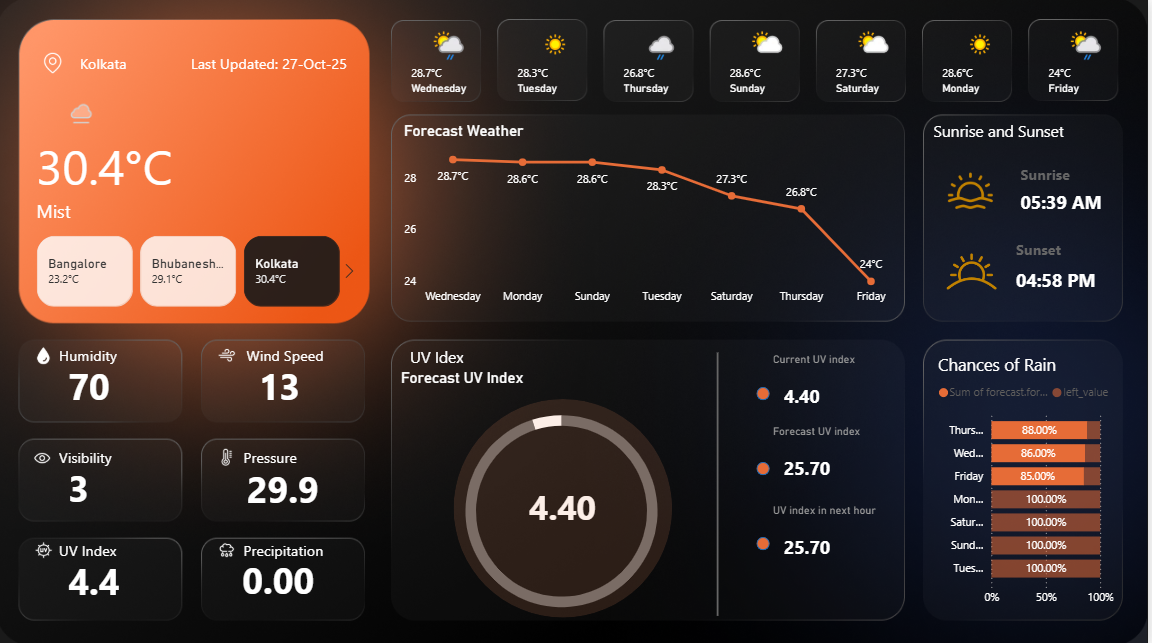

Layout of this report page (visuals, bound fields, positions):
{"tool":"powerbi","page":{"name":"Main Dashboard ","canvas":[1280,720],"ordinal":0},"visuals":[{"type":"advancedSlicerVisual","fields":{"Values":["Location.location.name"]},"box":[19.5,257,388.7,89.5],"z":0},{"type":"shape","box":[44.8,148.3,167.2,63.8],"z":1000},{"type":"shape","box":[44.8,212.1,167.2,44.8],"z":2000},{"type":"shape","box":[93.1,53.4,167.2,32.8],"z":3000},{"type":"shape","box":[216.3,56.9,193.6,26],"z":4000},{"type":"image","box":[44.8,53.4,36.2,32.8],"z":5000},{"type":"cardVisual","fields":{"Data":["Min(current.current.condition.icon)"]},"box":[24.1,86.2,105.2,74.1],"z":6000},{"type":"image","box":[30.9,492.8,39,30.9],"z":7000},{"type":"shape","box":[69.9,492.8,115.5,29.3],"z":8000},{"type":"image","box":[32.5,380.6,39,30],"z":9000},{"type":"shape","box":[69.9,380.6,115.5,29.3],"z":10000},{"type":"shape","box":[278.1,380.6,115.5,29.3],"z":11000},{"type":"shape","box":[274.9,492.8,115.5,29.3],"z":12000},{"type":"shape","box":[69.9,596.9,115.5,29.3],"z":13000},{"type":"shape","box":[274.9,596.9,115.5,29.3],"z":14000},{"type":"image","box":[235.8,380.6,39,29.3],"z":15000},{"type":"image","box":[235.8,492.8,39,29.3],"z":16000},{"type":"image","box":[32.5,596.9,39,29.3],"z":17000},{"type":"image","box":[235.8,596.9,39,29.3],"z":18000},{"type":"cardVisual","fields":{"Data":["Sum(current.current.humidity)"]},"box":[63.4,380.6,102.5,86.2],"z":19000},{"type":"cardVisual","fields":{"Data":["Sum(current.current.wind_kph)"]},"box":[274.9,380.6,102.5,86.2],"z":20000},{"type":"cardVisual","fields":{"Data":["Sum(current.current.vis_km)"]},"box":[63.4,492.8,102.5,86.2],"z":21000},{"type":"cardVisual","fields":{"Data":["Sum(current.current.pressure_in)"]},"box":[260.9,495.1,143.8,85.3],"z":22000},{"type":"cardVisual","fields":{"Data":["Sum(current.current.uv)"]},"box":[63.4,596.9,102.5,86.2],"z":23000},{"type":"cardVisual","fields":{"Data":["Sum(current.current.precip_in)"]},"box":[255.9,597.1,135.5,85.3],"z":24000},{"type":"advancedSlicerVisual","fields":{"Values":["forecast_day.day_name"]},"box":[444,22.8,829.5,100.8],"z":25000},{"type":"lineChart","title":"Forecast Weather","fields":{"Y":["Sum(forecast_day.forecast.forecastday.day.avgtemp_c)"],"Category":["forecast_day.day_name"]},"box":[448.9,135,559.5,211.5],"z":26000},{"type":"shape","box":[1041,128.5,167.5,32.5],"z":27000},{"type":"shape","box":[1139.1,208.7,107.4,30.9],"z":28000},{"type":"shape","box":[1133.7,293.3,100.8,34.2],"z":29000},{"type":"shape","box":[1133.7,262.4,139.9,30.9],"z":30000},{"type":"shape","box":[1139.1,177.8,139.9,30.9],"z":31000},{"type":"image","box":[1052.4,182.2,61.8,60.2],"z":32000},{"type":"image","box":[1041,271.6,84.6,60.2],"z":33000},{"type":"hundredPercentStackedBarChart","title":"Chances of Rain","fields":{"Y":["Sum(forecast_day.forecast.forecastday.day.daily_chance_of_rain)","current.left_value"],"Category":["forecast_day.day_name"]},"box":[1041,392,204.9,289.5],"z":34000},{"type":"shape","box":[460.3,380.6,167.5,32.5],"z":35000},{"type":"cardVisual","title":"Current UV index","fields":{"Data":["Sum(current.current.uv)"]},"box":[858.8,392,102.5,74.8],"z":36000},{"type":"cardVisual","title":"Forecast UV index","fields":{"Data":["Sum(forecast_day.forecast.forecastday.day.uv)"]},"box":[858.8,471.7,138.3,74.8],"z":37000},{"type":"cardVisual","title":" UV index in next hour","fields":{"Data":["Sum(forecast_day.forecast.forecastday.day.uv)"]},"box":[858.8,559.5,149.6,74.8],"z":38000},{"type":"shape","box":[844.2,429.4,14.6,14.6],"z":39000},{"type":"shape","box":[844.2,514,14.6,14.6],"z":40000},{"type":"shape","box":[845.8,596.9,14.6,14.6],"z":41000},{"type":"donutChart","title":"Forecast UV Index","fields":{"Y":["_Measures.left_uv_index","Sum(forecast_day.forecast.forecastday.day.uv)"]},"box":[445.7,409.9,366,296],"z":42000},{"type":"cardVisual","title":"Current UV index","fields":{"Data":["Sum(current.current.uv)"]},"box":[574.2,514,130.1,89.5],"z":43000},{"type":"shape","box":[509.1,444,243,243],"z":44000},{"type":"shape","box":[704.3,392,193.6,292.8],"z":45000}]}

Visuals, with their boxes in screenshot pixels (x1, y1, x2, y2), scaled from the page's 1280x720 canvas onto the 1152x643 screenshot:
advancedSlicerVisual - Location.location.name: region(18, 230, 367, 309)
shape: region(40, 132, 191, 189)
shape: region(40, 189, 191, 229)
shape: region(84, 48, 234, 77)
shape: region(195, 51, 369, 74)
image: region(40, 48, 73, 77)
cardVisual - Min(current.current.condition.icon): region(22, 77, 116, 143)
image: region(28, 440, 63, 468)
shape: region(63, 440, 167, 466)
image: region(29, 340, 64, 367)
shape: region(63, 340, 167, 366)
shape: region(250, 340, 354, 366)
shape: region(247, 440, 351, 466)
shape: region(63, 533, 167, 559)
shape: region(247, 533, 351, 559)
image: region(212, 340, 247, 366)
image: region(212, 440, 247, 466)
image: region(29, 533, 64, 559)
image: region(212, 533, 247, 559)
cardVisual - Sum(current.current.humidity): region(57, 340, 149, 417)
cardVisual - Sum(current.current.wind_kph): region(247, 340, 340, 417)
cardVisual - Sum(current.current.vis_km): region(57, 440, 149, 517)
cardVisual - Sum(current.current.pressure_in): region(235, 442, 364, 518)
cardVisual - Sum(current.current.uv): region(57, 533, 149, 610)
cardVisual - Sum(current.current.precip_in): region(230, 533, 352, 609)
advancedSlicerVisual - forecast_day.day_name: region(400, 20, 1146, 110)
"Forecast Weather" lineChart: region(404, 121, 908, 309)
shape: region(937, 115, 1088, 144)
shape: region(1025, 186, 1122, 214)
shape: region(1020, 262, 1111, 292)
shape: region(1020, 234, 1146, 262)
shape: region(1025, 159, 1151, 186)
image: region(947, 163, 1003, 216)
image: region(937, 243, 1013, 296)
"Chances of Rain" hundredPercentStackedBarChart: region(937, 350, 1121, 609)
shape: region(414, 340, 565, 369)
"Current UV index" cardVisual: region(773, 350, 865, 417)
"Forecast UV index" cardVisual: region(773, 421, 897, 488)
" UV index in next hour" cardVisual: region(773, 500, 908, 566)
shape: region(760, 383, 773, 397)
shape: region(760, 459, 773, 472)
shape: region(761, 533, 774, 546)
"Forecast UV Index" donutChart: region(401, 366, 731, 630)
"Current UV index" cardVisual: region(517, 459, 634, 539)
shape: region(458, 397, 677, 614)
shape: region(634, 350, 808, 612)
